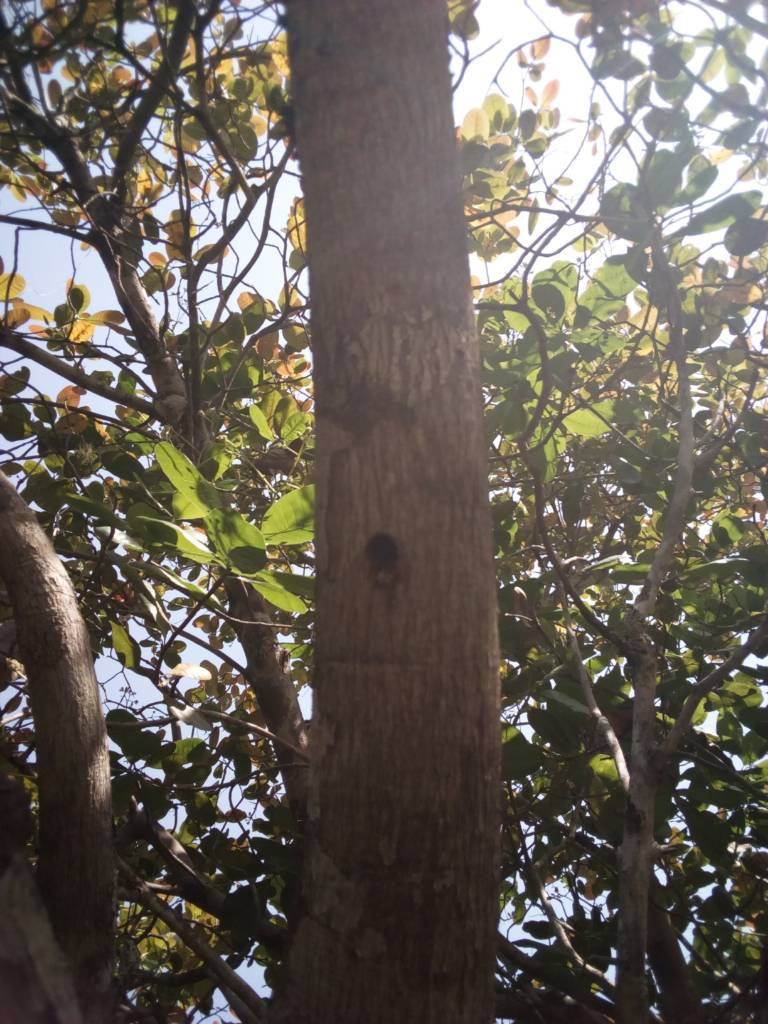Apate terebrans: (331, 524, 470, 596)
